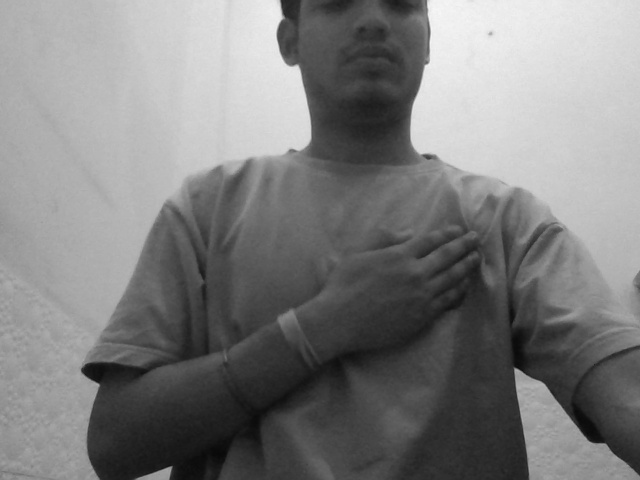Sorry: (296, 191, 522, 378)
